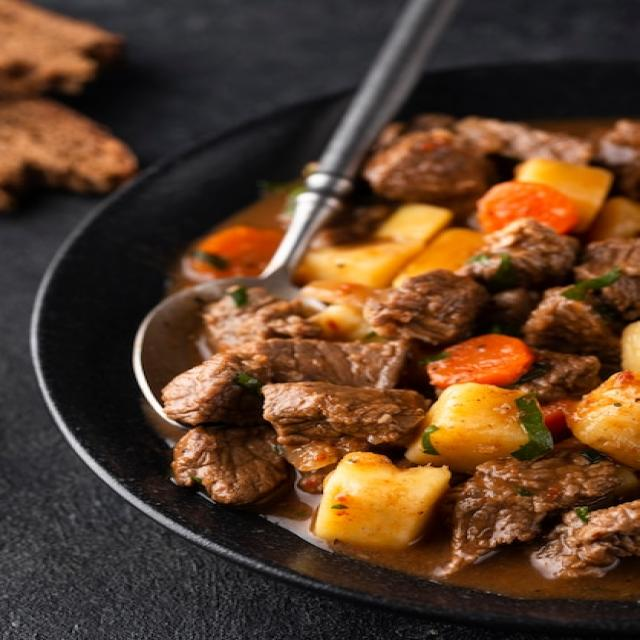carne de res: (113, 83, 640, 592)
